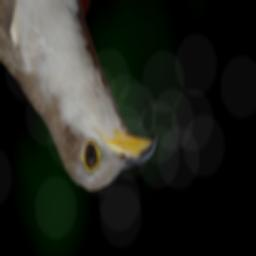Cuckoo: (0, 0, 157, 193)
